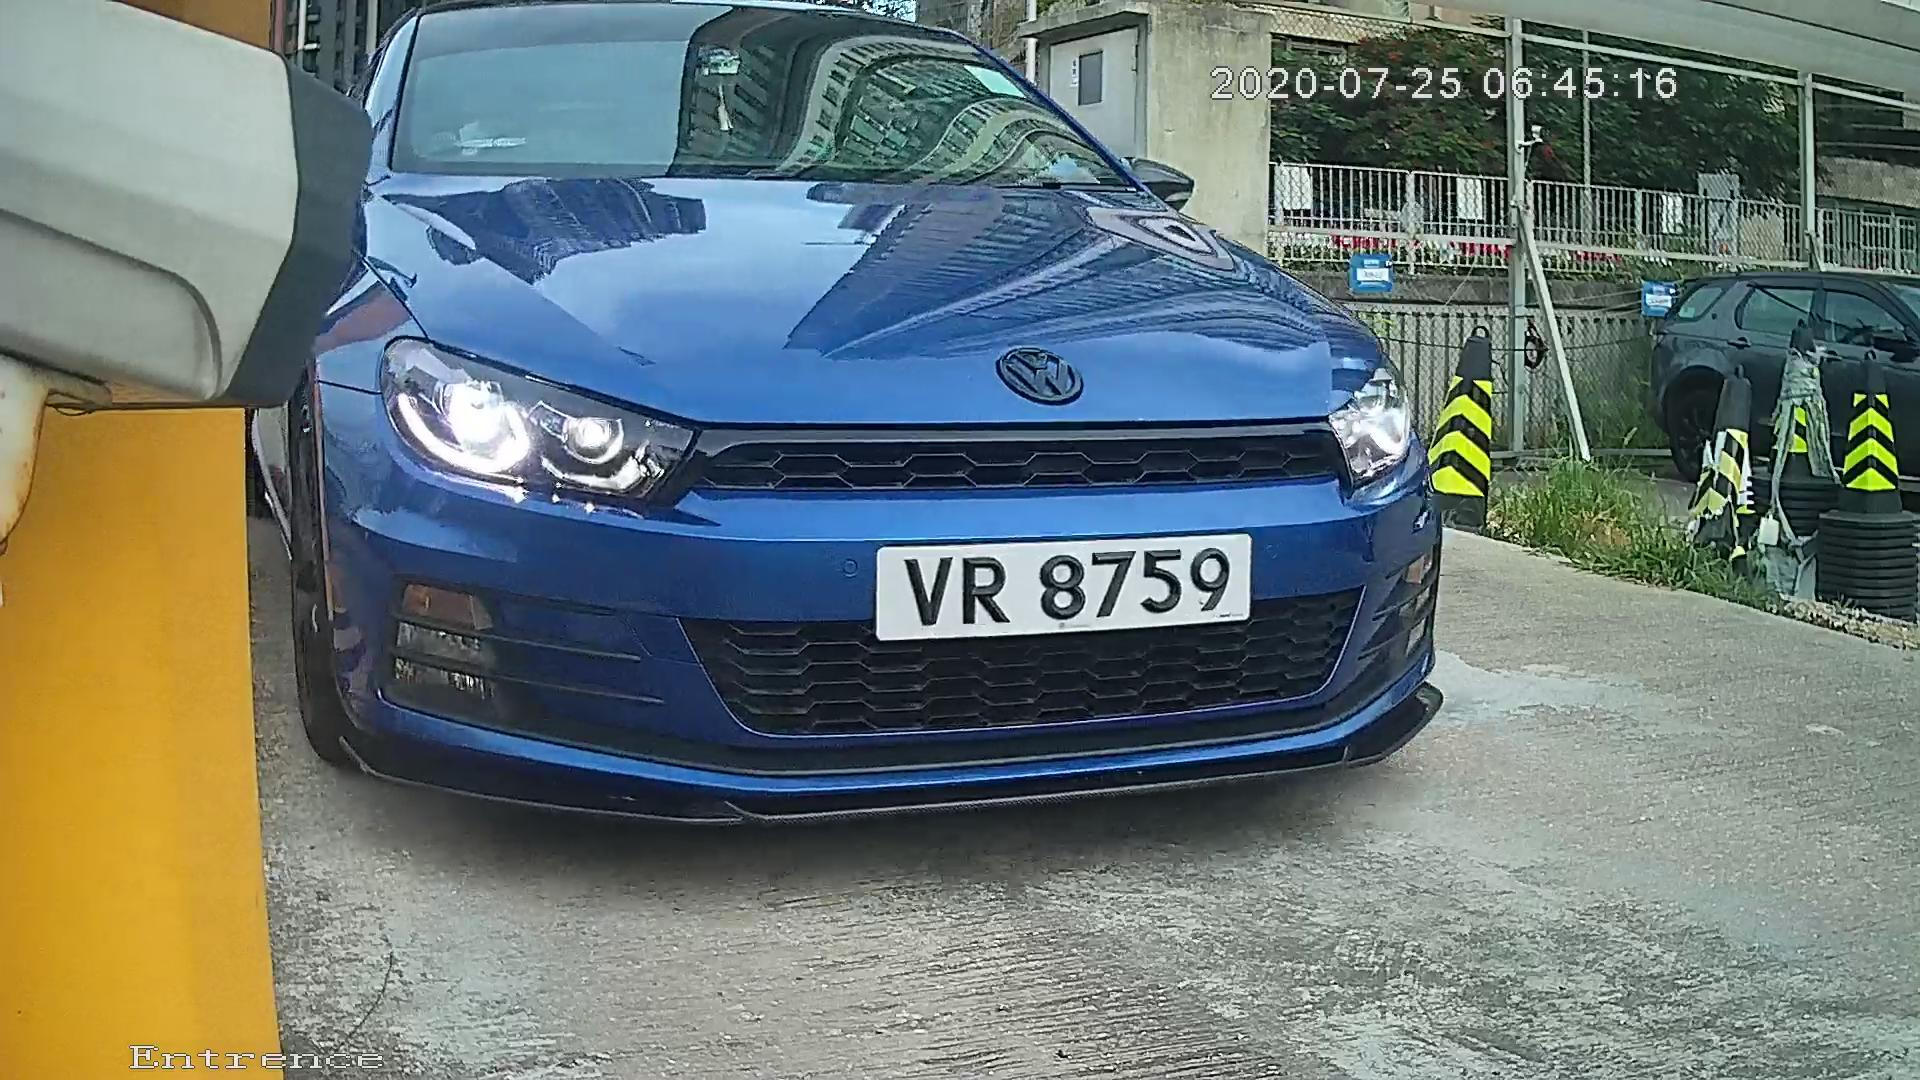License Plate: (849, 512, 1278, 661)
